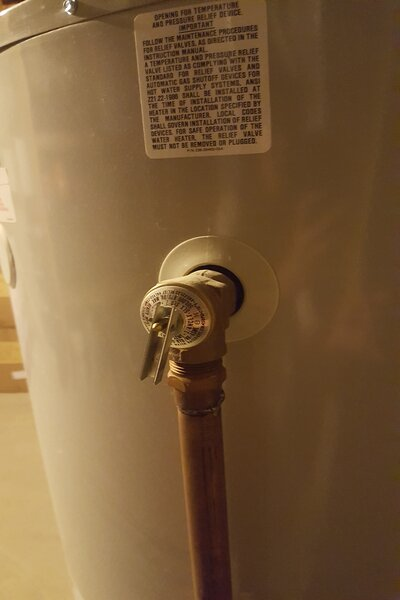valve: (134, 269, 233, 377)
